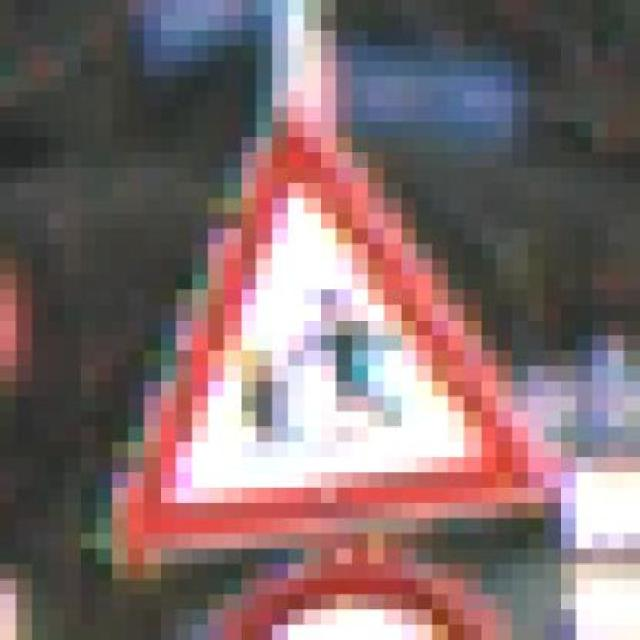Beware of children: (64, 107, 576, 548)
